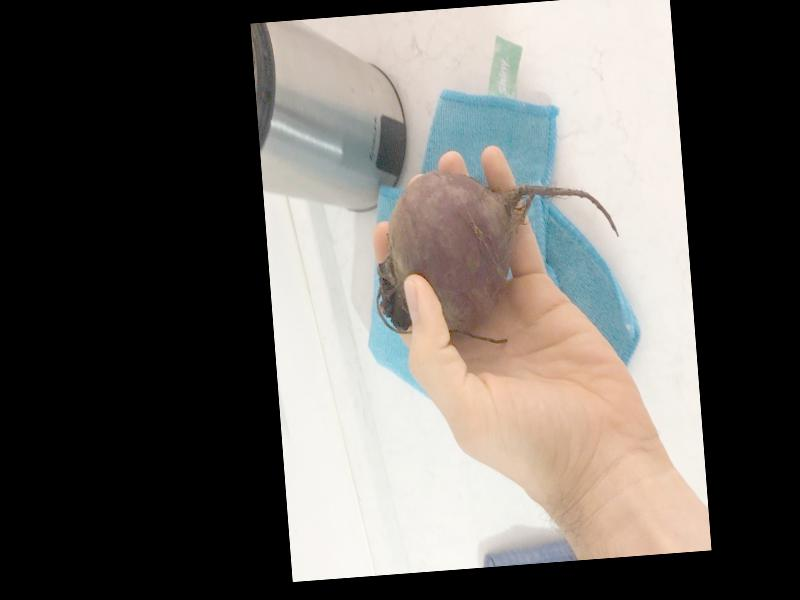Beet: (367, 158, 626, 351)
